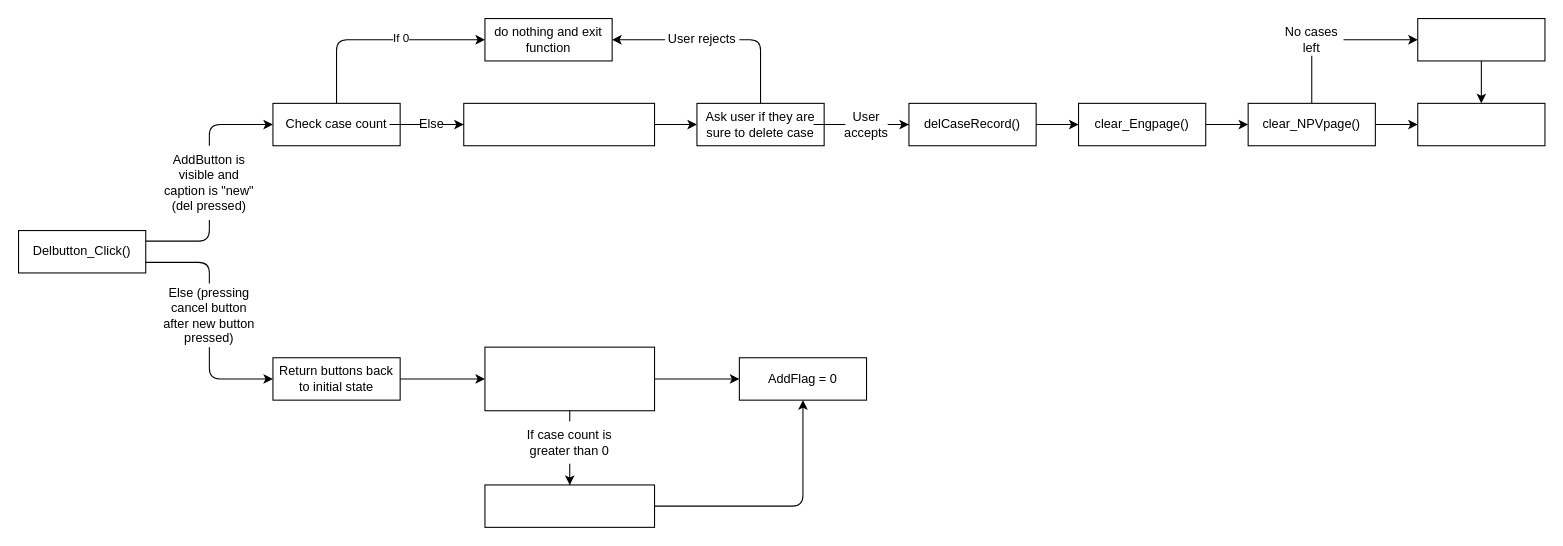
Image size: 1563x546. Some labels were removed from this diagram. The shapes that lost their labels are listed below. From the top down, each one's centre as x and y in pixels, then its label:
(x=1481, y=39): Disable other tabs
(x=559, y=124): selectedrecord(ListBox1, 0) //getting selected record
(x=1481, y=124): Mc_NPV_Invalidate()
(x=569, y=378): Enable/disbale all frames disabled/enabled after new button pressed
(x=569, y=505): Enable other tabs
